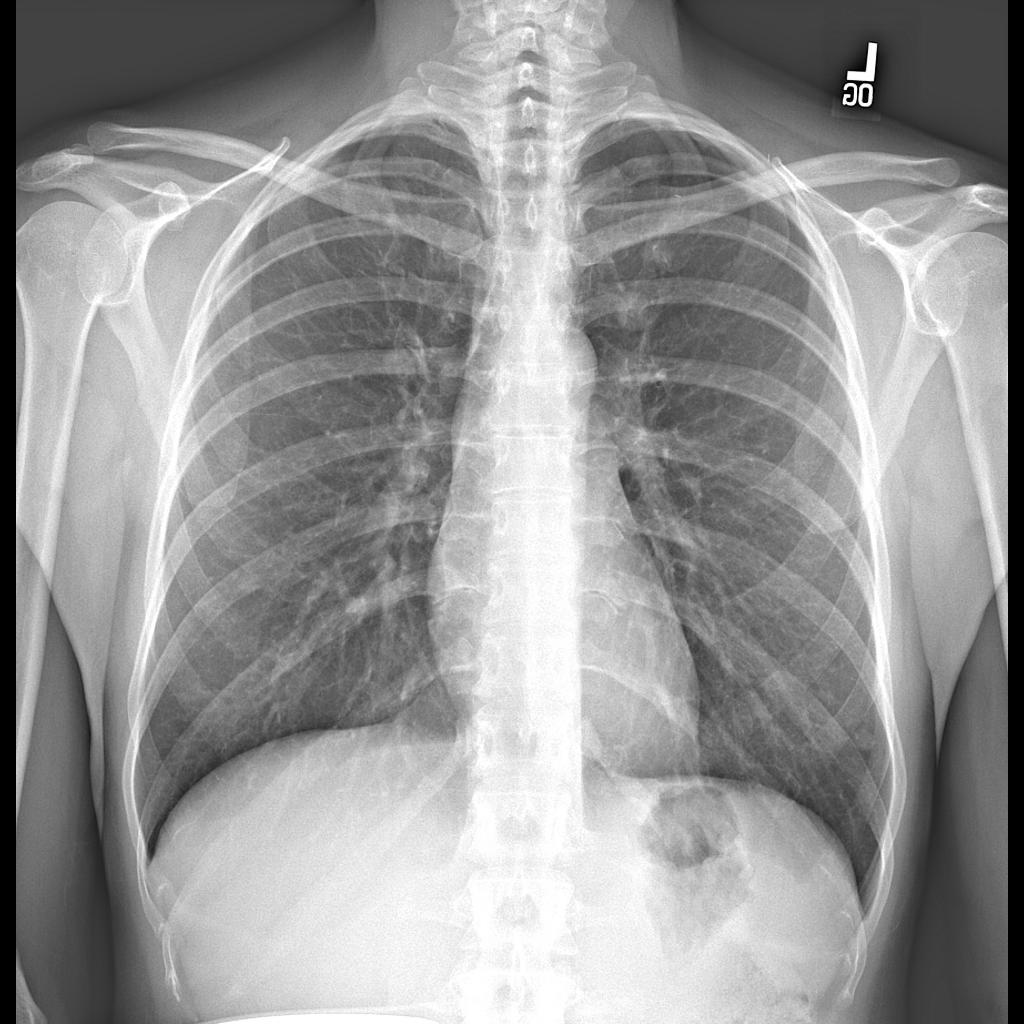Nodule: (613, 285, 652, 337), (635, 234, 678, 271)
